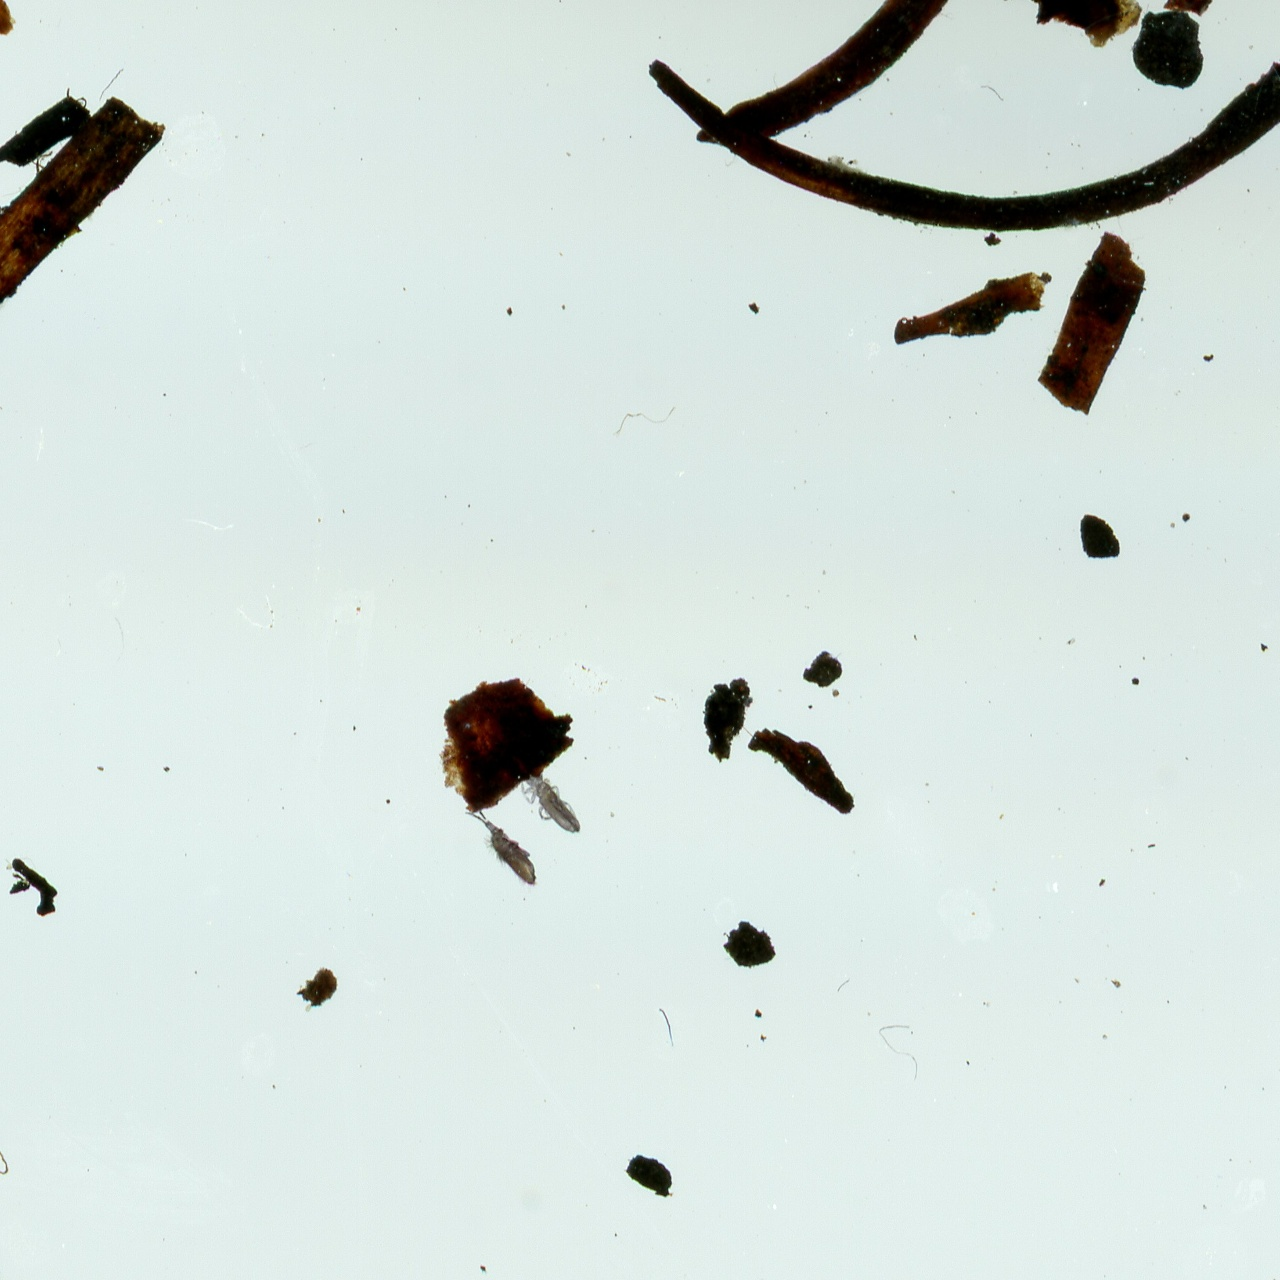arthropod: (452, 783, 560, 911), (502, 749, 598, 857)
